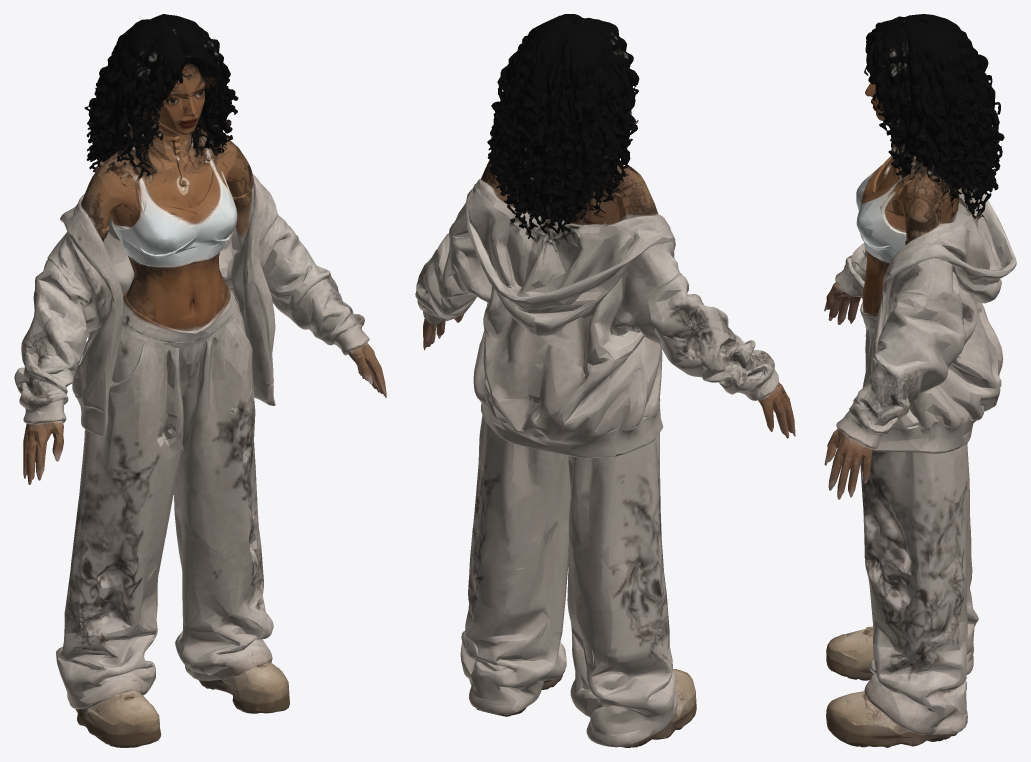
The picture shows the model from 3 angles, left to right: view 1: azimuth 30°, elevation 25°; view 2: azimuth 150°, elevation 25°; view 3: azimuth 270°, elevation 25°; orthographic projection. The views are drawn at different scales.
Parts seen in each view (by area): view 1: Mesh_0; view 2: Mesh_0; view 3: Mesh_0.
Boxes of the visible parts, x1,y1,x2,y2 form: Mesh_0: (14,14,386,747); Mesh_0: (415,14,795,747); Mesh_0: (824,14,1016,747).
Bounding box in the file's own units: 1.04 × 1.9 × 0.485.
1 material, 1 textured.
